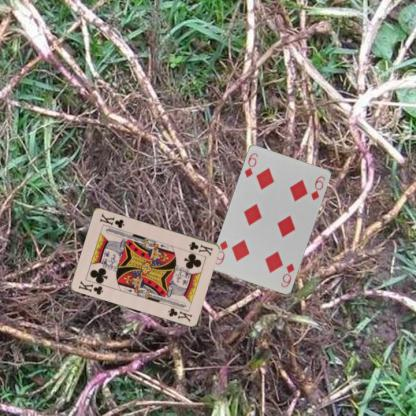6d: (278, 260, 296, 289), (242, 150, 260, 179)
Kc: (76, 278, 105, 296), (187, 239, 214, 257)
